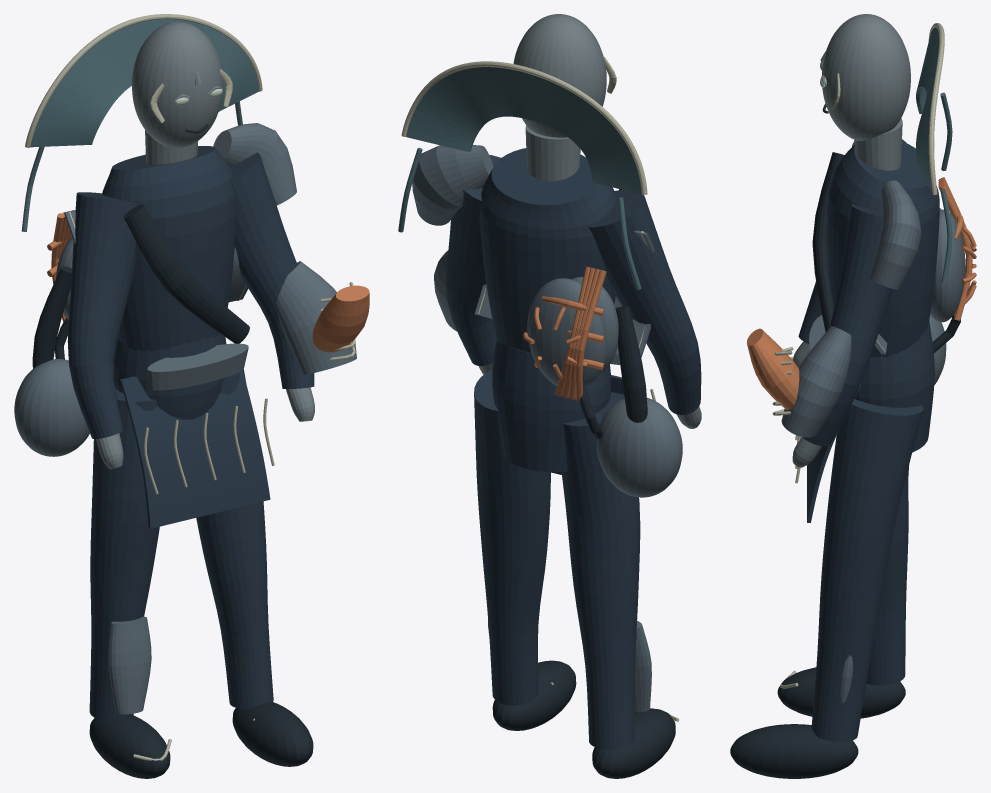
The model's file is SeamCastigator.obj.
3 views of the same model, side by side, from view 1: azimuth 30°, elevation 25°; view 2: azimuth 150°, elevation 25°; view 3: azimuth 270°, elevation 25° (orthographic). The views are drawn at different scales.
Visible parts, largest first — view 1: Avarin_Torso, Salvage_SplitFieldApron, Avarin_Leg_L, Avarin_Arm_L, Avarin_Leg_R, Avarin_LivingCrescentMantle, Avarin_TempleFace, Avarin_Arm_R, Castigator_LeftBalanceWeight, Salvage_ChestBraid, Castigator_ArmCaptureBrace, Avarin_Pelvis (+12 smaller); view 2: Avarin_Leg_L, Avarin_Leg_R, Avarin_Torso, Avarin_LivingCrescentMantle, Avarin_Arm_L, Avarin_Pelvis, Castigator_LeftBalanceWeight, Avarin_Arm_R, Avarin_TempleFace, Castigator_HighRightShoulder, Castigator_BackFractureSpool, Avarin_Foot_L (+13 smaller); view 3: Avarin_Leg_R, Avarin_Torso, Avarin_TempleFace, Avarin_Arm_R, Avarin_Foot_R, Avarin_Leg_L, Avarin_Pelvis, Castigator_ArmCaptureBrace, Castigator_HighRightShoulder, Castigator_OpenArcFrame, Avarin_Foot_L, Castigator_BackFractureSpool (+11 smaller).
Part boxes in pixels (box(x1,y1,x2,y2)): Avarin_Torso: box(102, 146, 235, 351); Salvage_SplitFieldApron: box(120, 369, 270, 528); Avarin_Leg_L: box(89, 388, 159, 720); Avarin_Arm_L: box(67, 192, 138, 438); Avarin_Leg_R: box(196, 368, 273, 709); Avarin_LivingCrescentMantle: box(30, 19, 259, 147); Avarin_TempleFace: box(132, 21, 223, 147); Avarin_Arm_R: box(229, 152, 314, 388); Castigator_LeftBalanceWeight: box(14, 359, 89, 456); Salvage_ChestBraid: box(123, 204, 249, 343); Castigator_ArmCaptureBrace: box(276, 261, 356, 374); Avarin_Pelvis: box(113, 334, 226, 419); Avarin_Leg_L: box(561, 392, 640, 749); Avarin_Leg_R: box(474, 369, 550, 705); Avarin_Torso: box(479, 148, 616, 352); Avarin_LivingCrescentMantle: box(406, 67, 641, 194); Avarin_Arm_L: box(588, 190, 701, 414); Avarin_Pelvis: box(492, 340, 610, 472); Castigator_LeftBalanceWeight: box(596, 397, 682, 497); Avarin_Arm_R: box(446, 155, 501, 365); Avarin_TempleFace: box(513, 14, 606, 137); Castigator_HighRightShoulder: box(412, 145, 493, 225); Castigator_BackFractureSpool: box(527, 278, 605, 386); Avarin_Foot_L: box(592, 708, 675, 778); Avarin_Leg_R: box(811, 399, 923, 741); Avarin_Torso: box(827, 141, 939, 357); Avarin_TempleFace: box(822, 14, 910, 140); Avarin_Arm_R: box(802, 203, 892, 445); Avarin_Foot_R: box(730, 724, 858, 778); Avarin_Leg_L: box(866, 466, 908, 685); Avarin_Pelvis: box(854, 321, 934, 452); Castigator_ArmCaptureBrace: box(781, 326, 851, 437); Castigator_HighRightShoulder: box(870, 180, 921, 289); Castigator_OpenArcFrame: box(747, 328, 799, 409); Avarin_Foot_L: box(777, 667, 905, 718); Castigator_BackFractureSpool: box(930, 209, 965, 322).
Bounding box in the file's own units: 0.7468 × 1.82 × 0.5575.
